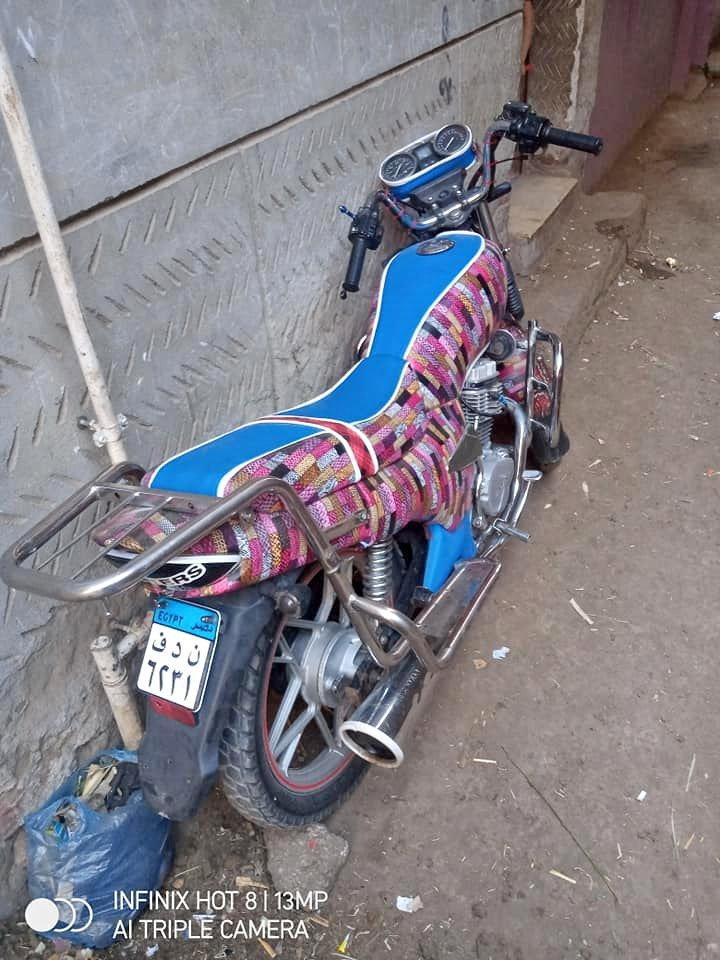License Plate: (134, 592, 226, 714)
